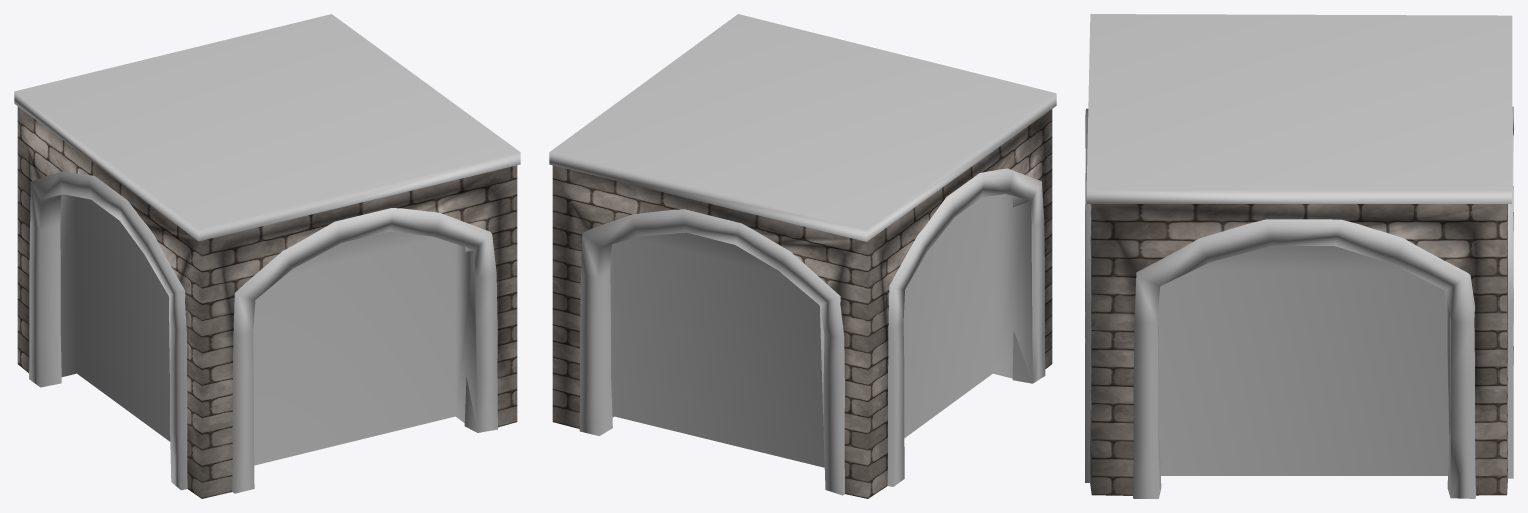
File: StonePlatformArches_1.fbx
The picture shows the model from 3 angles, left to right: view 1: azimuth 30°, elevation 25°; view 2: azimuth 150°, elevation 25°; view 3: azimuth 270°, elevation 25°; orthographic projection. The views are drawn at different scales.
Visible parts, largest first — view 1: Mesh; view 2: Mesh; view 3: Mesh.
Part boxes in pixels (box(x1,y1,x2,y2)): Mesh: box(14, 14, 520, 498); Mesh: box(549, 14, 1056, 498); Mesh: box(1085, 14, 1513, 498).
Bounding box in the file's own units: 338 × 266 × 338.
